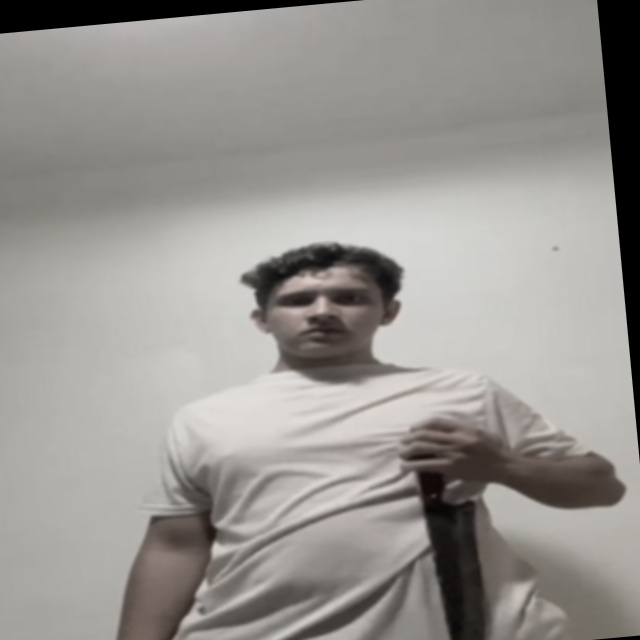Sharp-Object: (428, 498, 492, 640)
